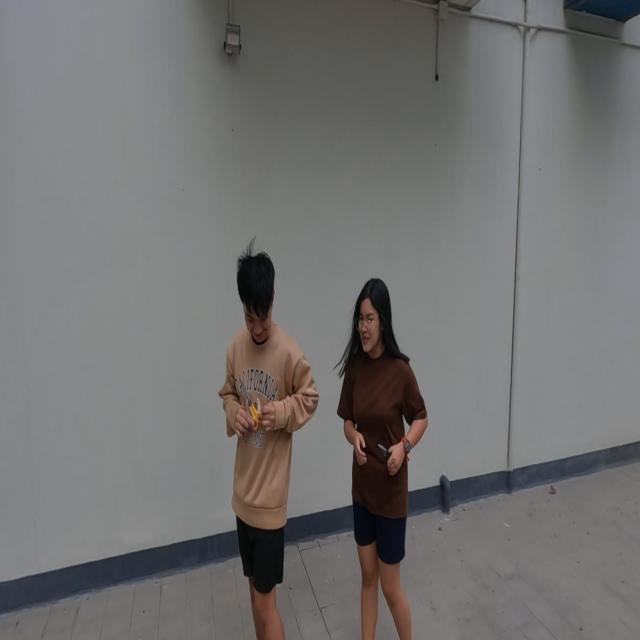scissor: (242, 380, 264, 430), (378, 444, 392, 461)
